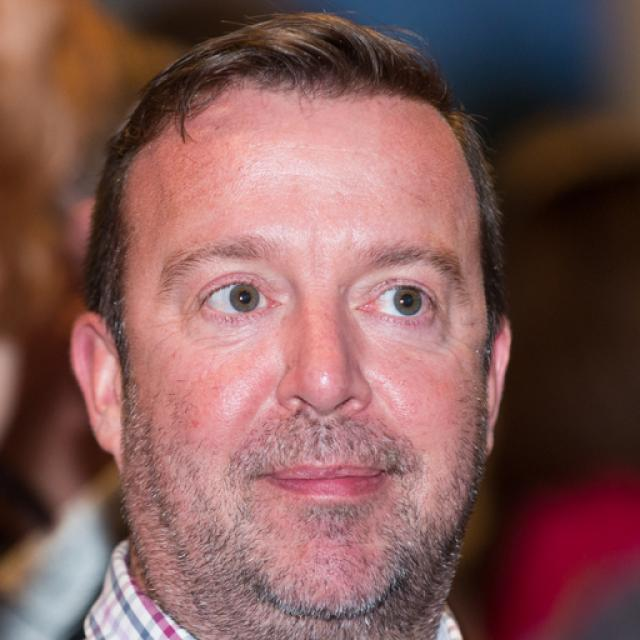surprise: (116, 80, 492, 614)
